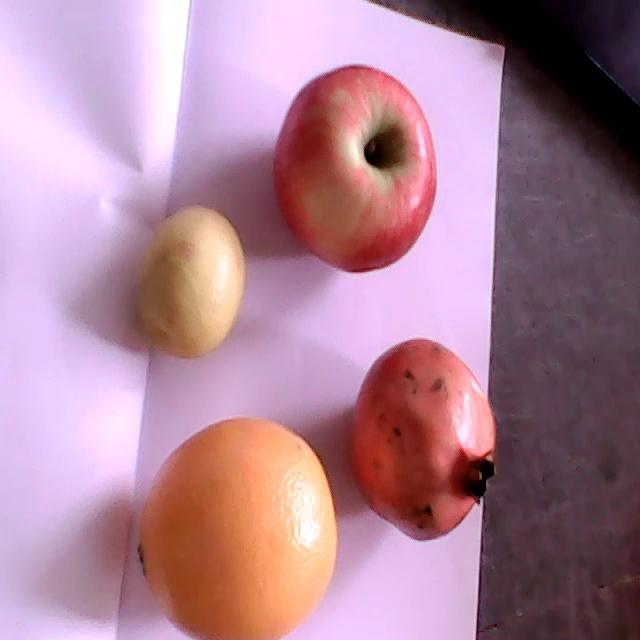apple: (272, 66, 438, 273)
lemon: (134, 205, 246, 358)
orange: (139, 416, 340, 639)
pomegranate: (348, 339, 499, 540)
